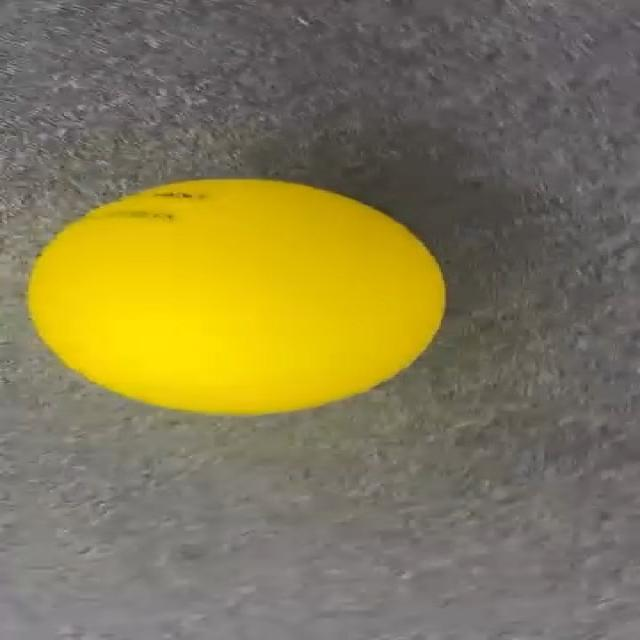Fuels: (28, 180, 439, 411)
